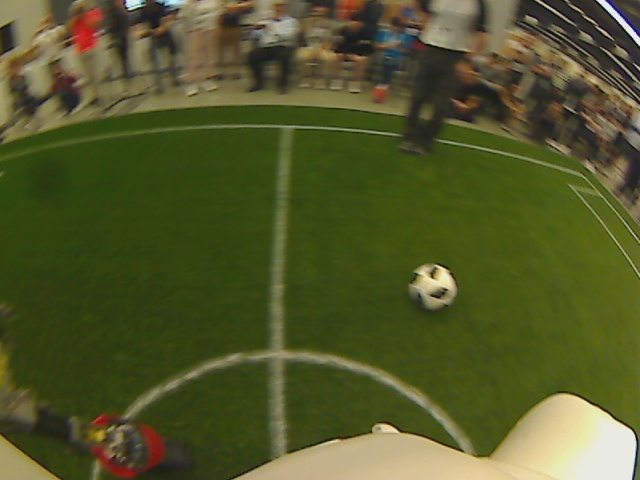ball: (407, 263, 459, 309)
